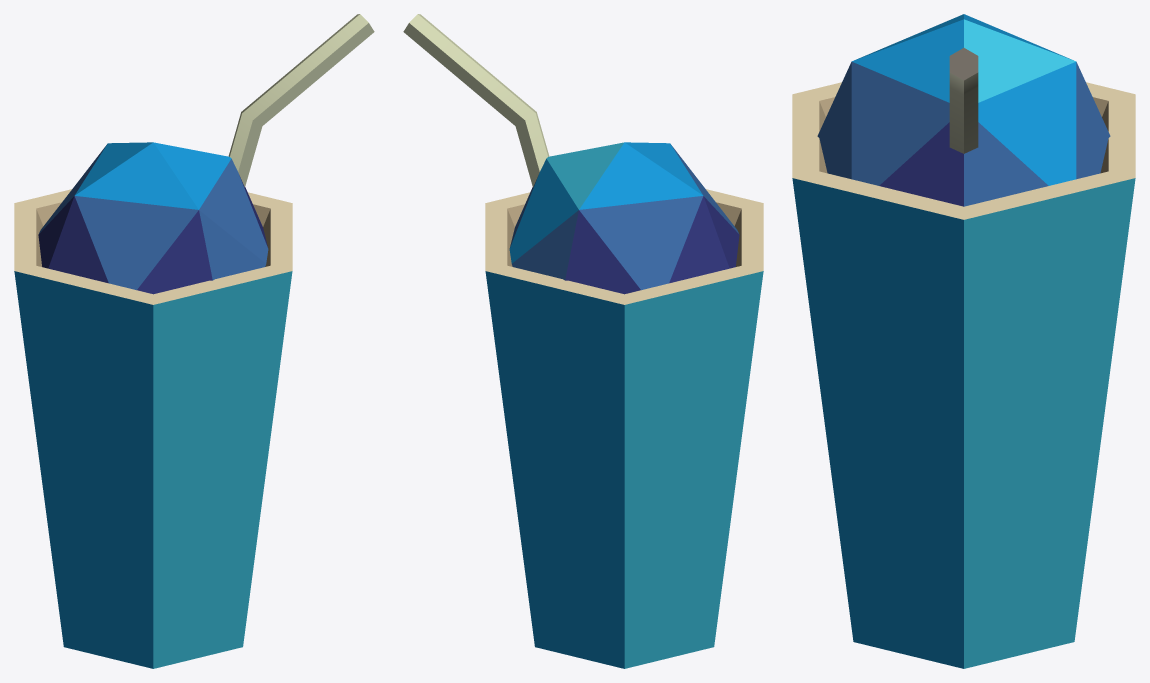
The model's file is Vaso_3.FBX.
The picture shows the model from 3 angles, left to right: view 1: azimuth 30°, elevation 25°; view 2: azimuth 150°, elevation 25°; view 3: azimuth 270°, elevation 25°; orthographic projection. The views are drawn at different scales.
Visible parts, largest first — view 1: Vaso_Azul; view 2: Vaso_Azul; view 3: Vaso_Azul.
Boxes of the visible parts, bbox=[...] form: Vaso_Azul: bbox=[14, 14, 374, 668]; Vaso_Azul: bbox=[403, 14, 763, 668]; Vaso_Azul: bbox=[792, 14, 1135, 668].
Bounding box in the file's own units: 38.54 × 57.79 × 25.98.
